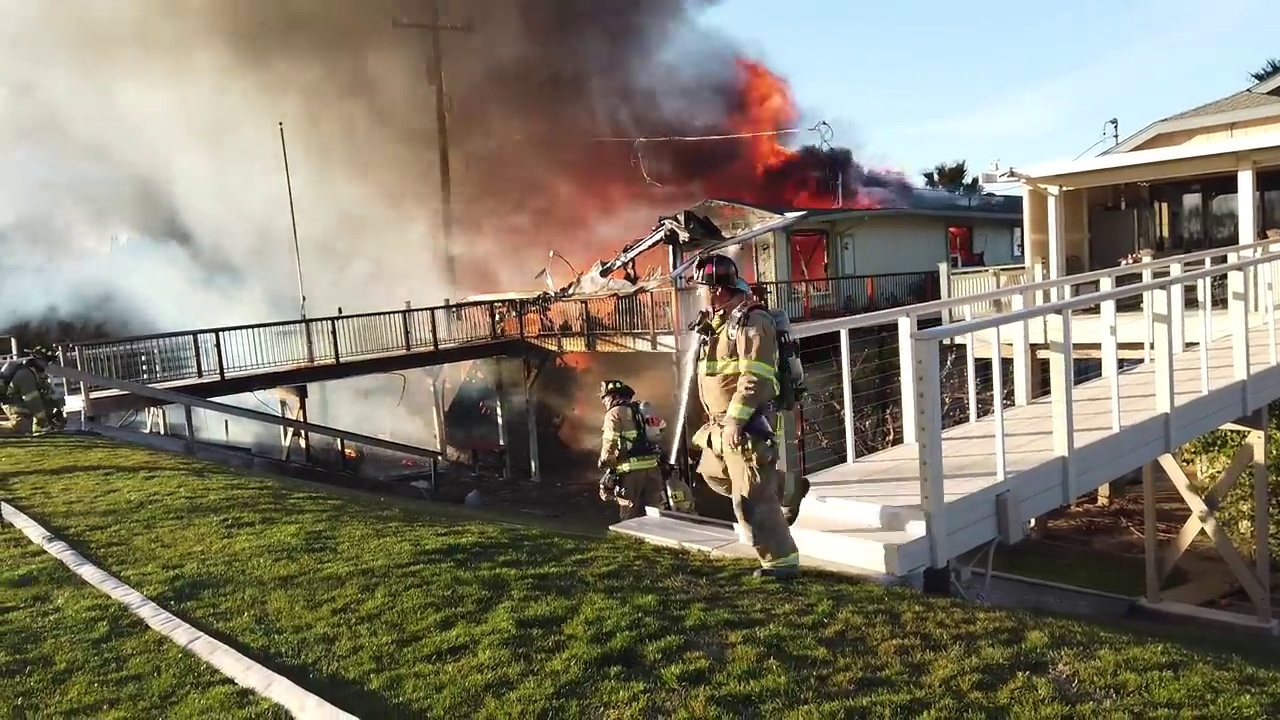fire: (741, 55, 803, 174), (790, 235, 826, 278), (948, 226, 972, 253), (865, 276, 874, 298)
smoke: (331, 1, 747, 248), (2, 5, 333, 315), (308, 380, 433, 444), (546, 352, 600, 472), (336, 250, 446, 306), (194, 408, 304, 457), (803, 142, 909, 190), (439, 363, 526, 416), (623, 351, 679, 429), (452, 248, 543, 295), (216, 386, 310, 403)
